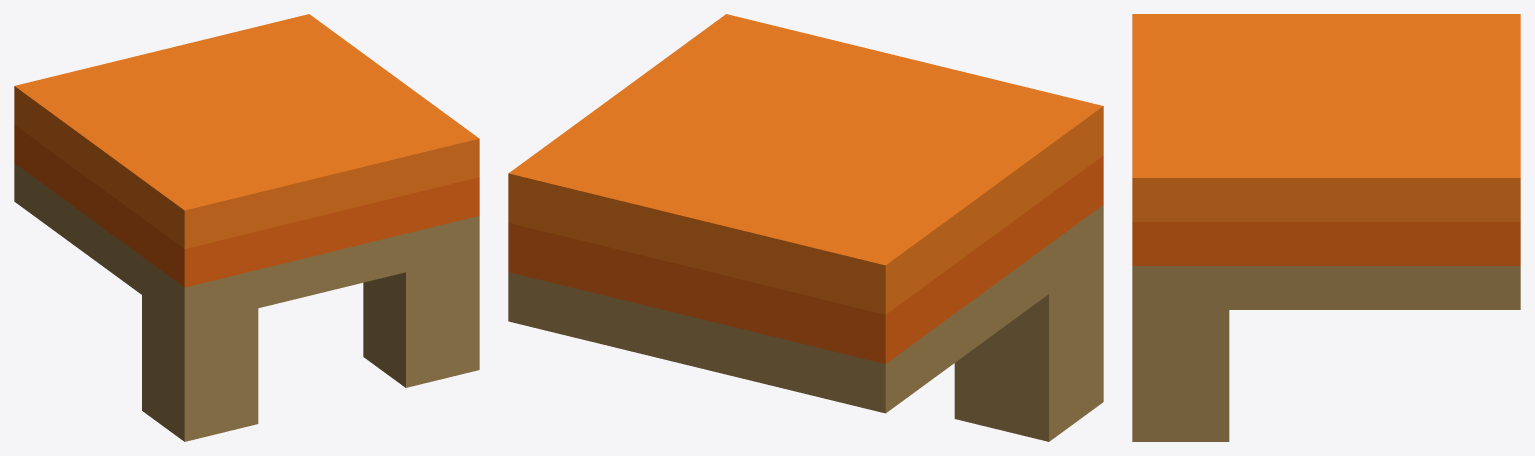
File: Orange Bed.glb
3 renders of one model, left to right at view 1: azimuth 30°, elevation 25°; view 2: azimuth 150°, elevation 25°; view 3: azimuth 270°, elevation 25°, orthographic. The views are drawn at different scales.
Parts seen in each view (by area): view 1: Untitled; view 2: Untitled; view 3: Untitled.
Part boxes in pixels (x1,y1,x2,y2): Untitled: [14, 14, 479, 441]; Untitled: [508, 14, 1103, 441]; Untitled: [1132, 14, 1520, 441].
Size of the model in its own units: 1.6 by 1.2 by 1.6.
Materials: 1 (1 with a texture image).
